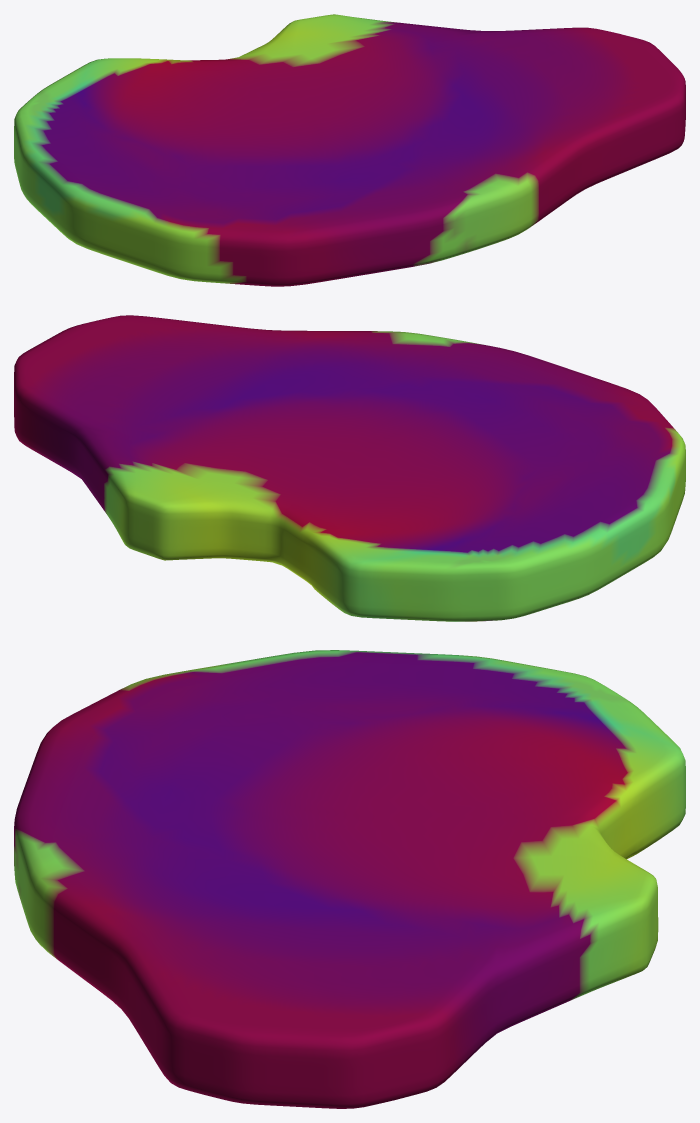
The model's file is steak (1).fbx.
The picture shows the model from 3 angles, top to bottom: view 1: azimuth 30°, elevation 25°; view 2: azimuth 150°, elevation 25°; view 3: azimuth 270°, elevation 25°; orthographic projection. The views are drawn at different scales.
Parts seen in each view (by area): view 1: steak__1_; view 2: steak__1_; view 3: steak__1_.
Boxes of the visible parts, box(x1,y1,x2,y2) form: steak__1_: box(14, 14, 685, 286); steak__1_: box(14, 315, 685, 621); steak__1_: box(14, 650, 685, 1108).
Size of the model in its own units: 20.36 by 1.74 by 14.58.
